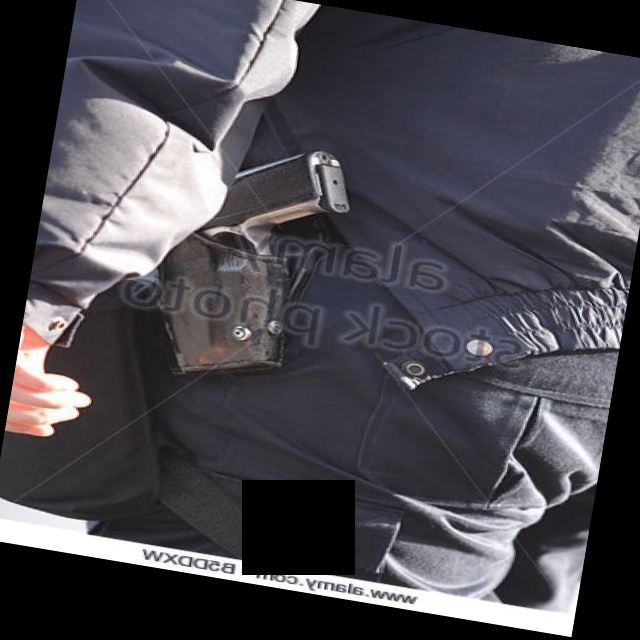gun: (134, 118, 362, 394)
